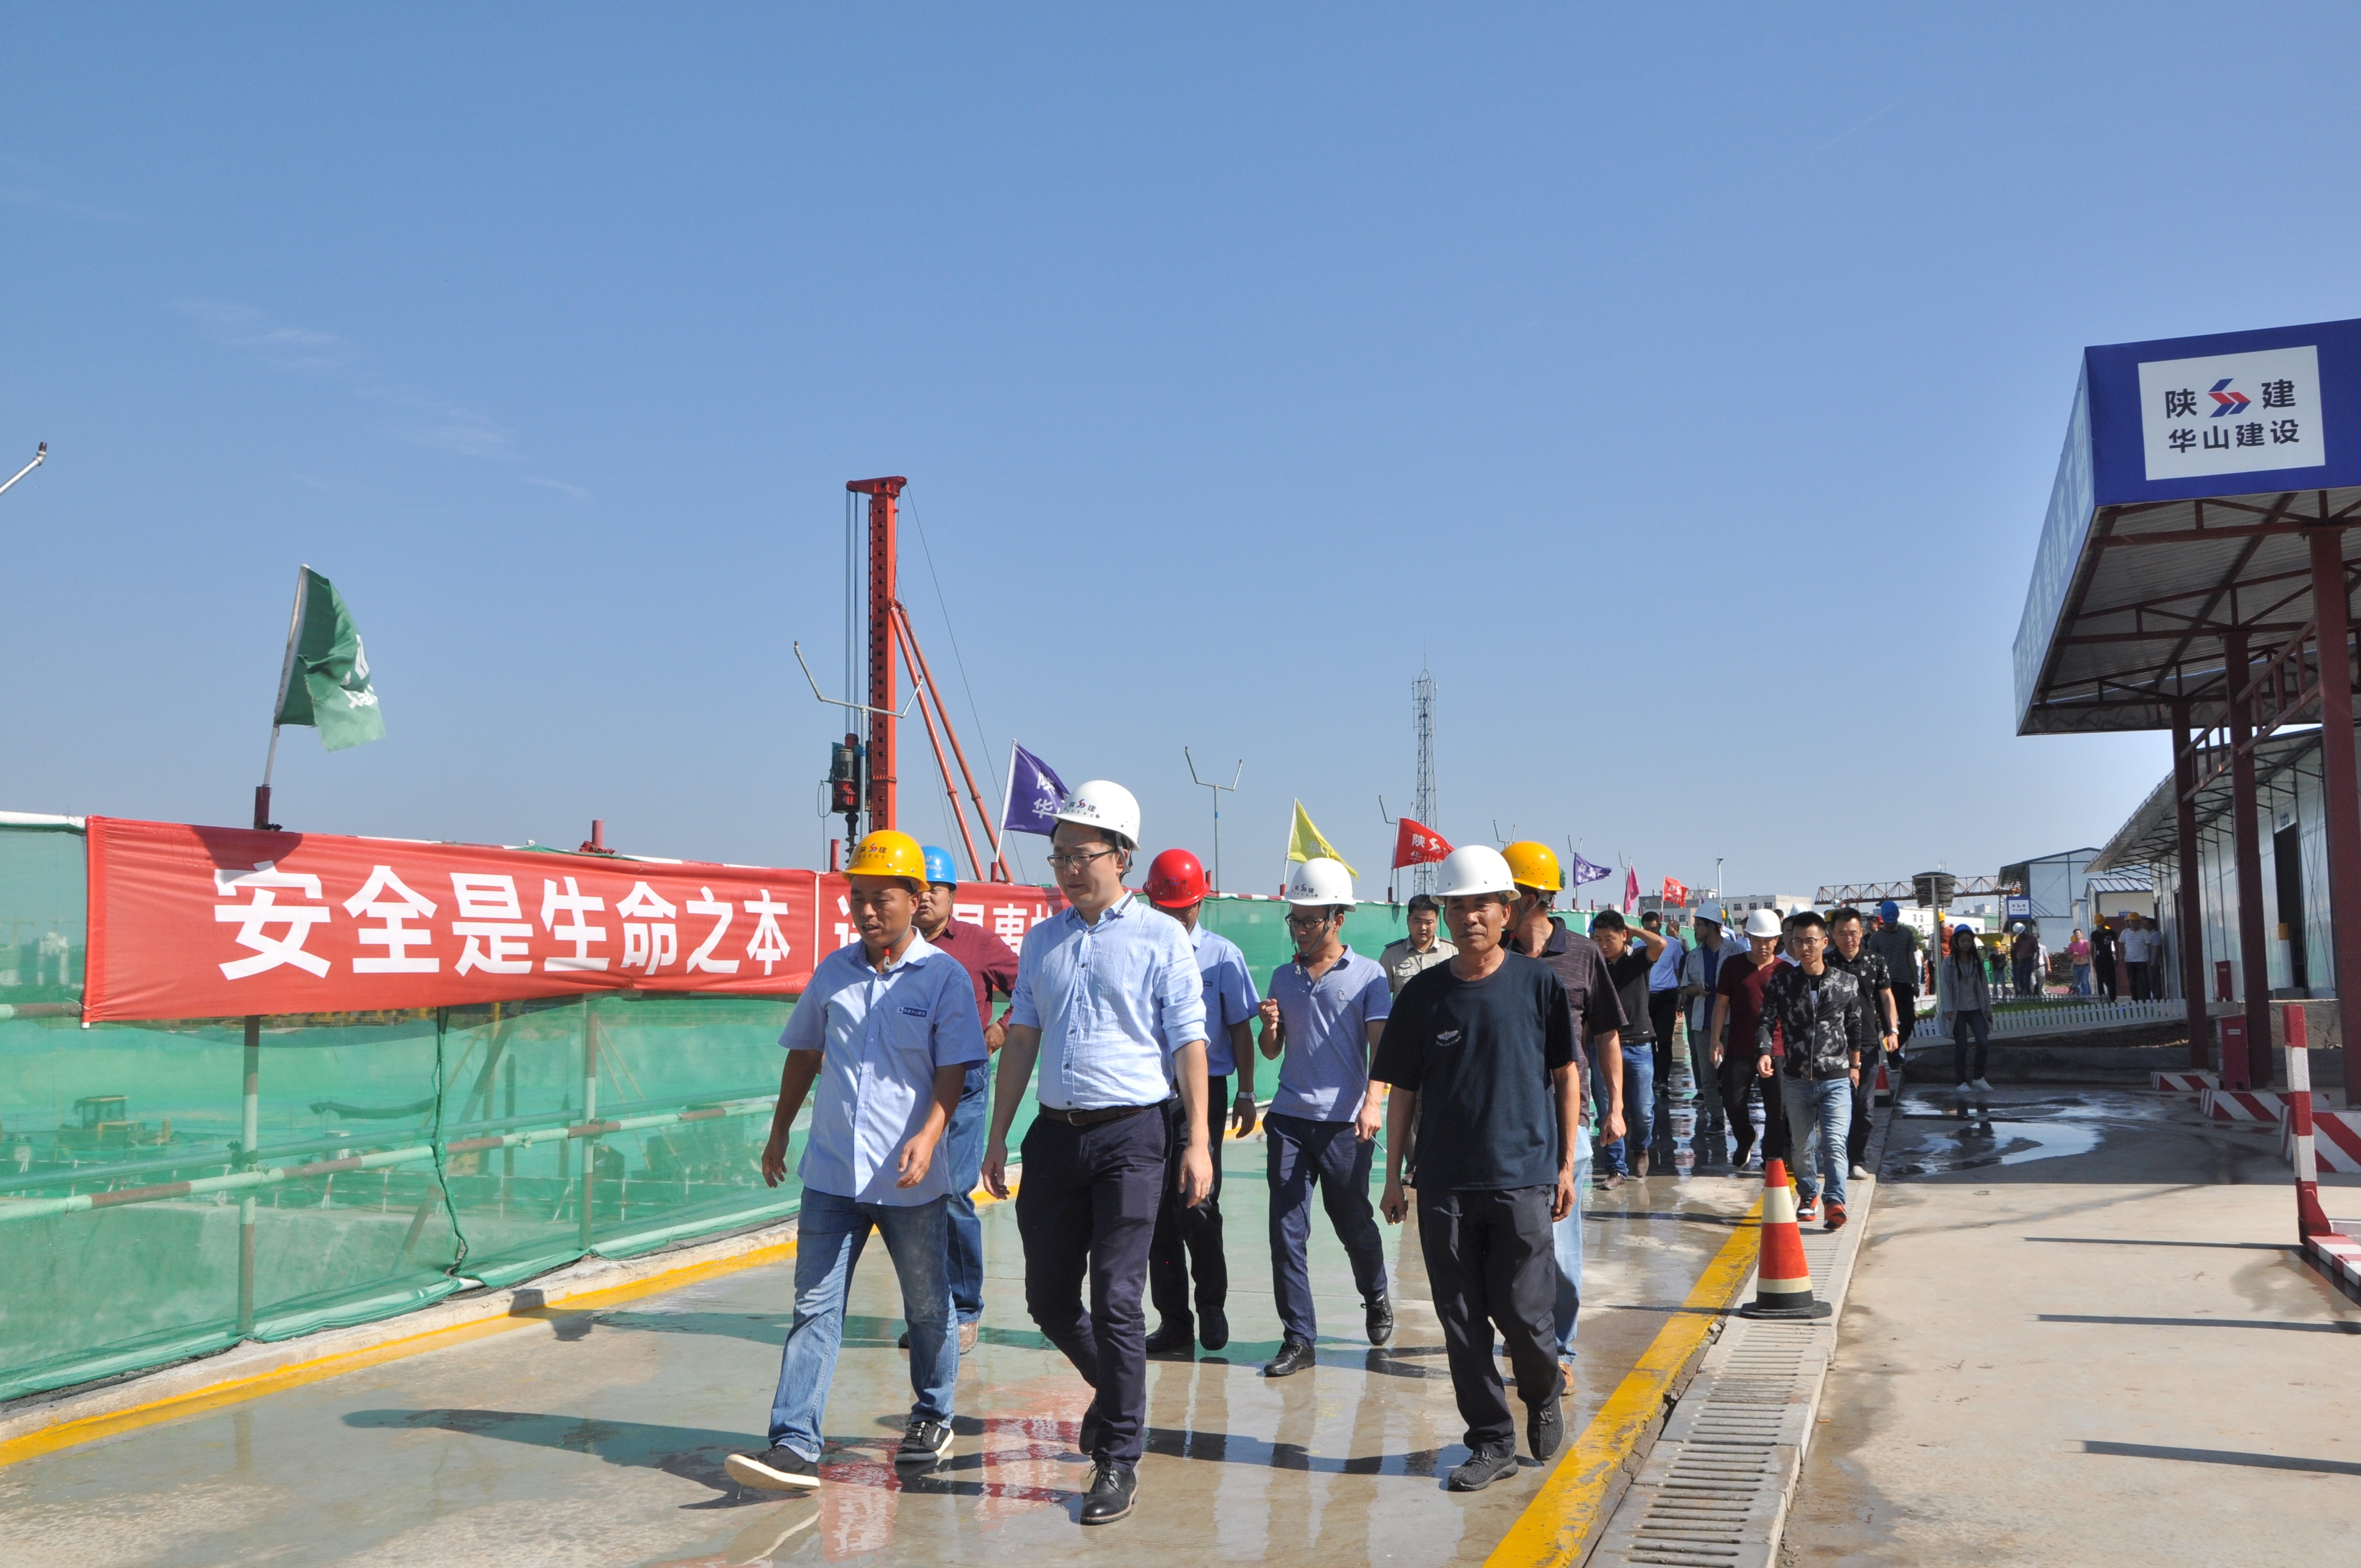blue: (917, 843, 957, 929), (1951, 922, 1978, 954), (1876, 899, 1901, 929)
none: (1789, 912, 1831, 966), (1589, 908, 1629, 959), (1404, 894, 1442, 947), (1829, 906, 1866, 954), (1638, 910, 1664, 940), (1664, 917, 1680, 938), (1864, 913, 1878, 933), (2140, 917, 2153, 931), (2072, 927, 2083, 940)
red: (1141, 850, 1208, 933)
white: (1040, 773, 1143, 908), (1430, 845, 1514, 955), (1283, 854, 1358, 959), (1743, 906, 1782, 959), (1691, 901, 1724, 941), (2011, 922, 2027, 936)
yellow: (838, 828, 928, 948), (1498, 840, 1561, 938), (2125, 912, 2140, 929), (1936, 910, 1946, 929), (2093, 913, 2105, 929), (1992, 940, 2002, 954)
